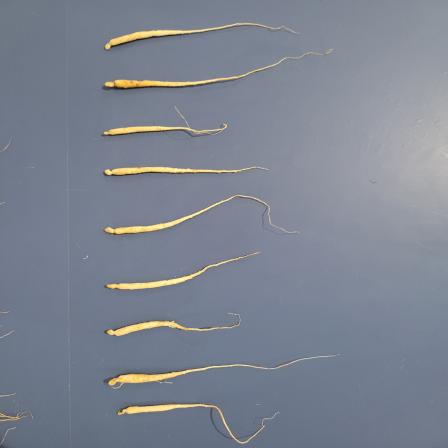Ginseng: (99, 50, 338, 94), (98, 194, 303, 238), (105, 356, 335, 391), (116, 403, 283, 447), (103, 250, 262, 292), (102, 20, 304, 52), (101, 107, 233, 140), (103, 310, 245, 338), (99, 161, 270, 181)
head: (104, 226, 120, 236), (103, 79, 120, 88), (108, 376, 122, 386), (104, 283, 124, 290), (106, 328, 121, 337), (104, 39, 115, 50), (116, 408, 131, 416), (103, 168, 117, 176), (103, 129, 113, 137)
